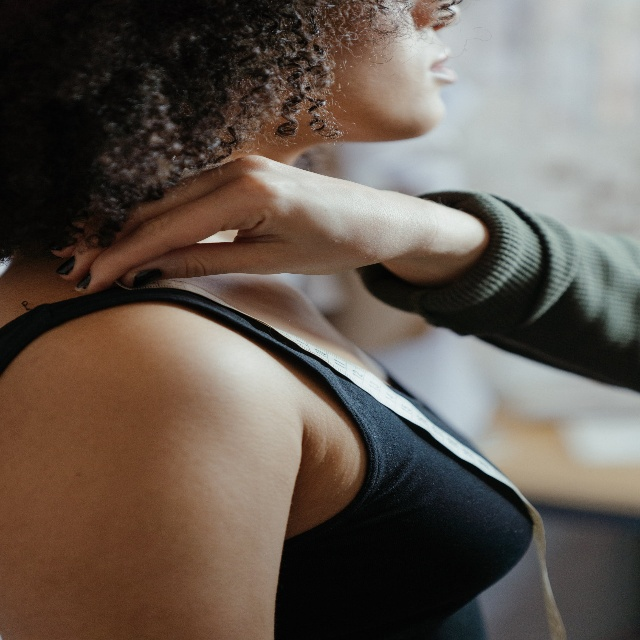Sin_guantes: (49, 154, 383, 296)
